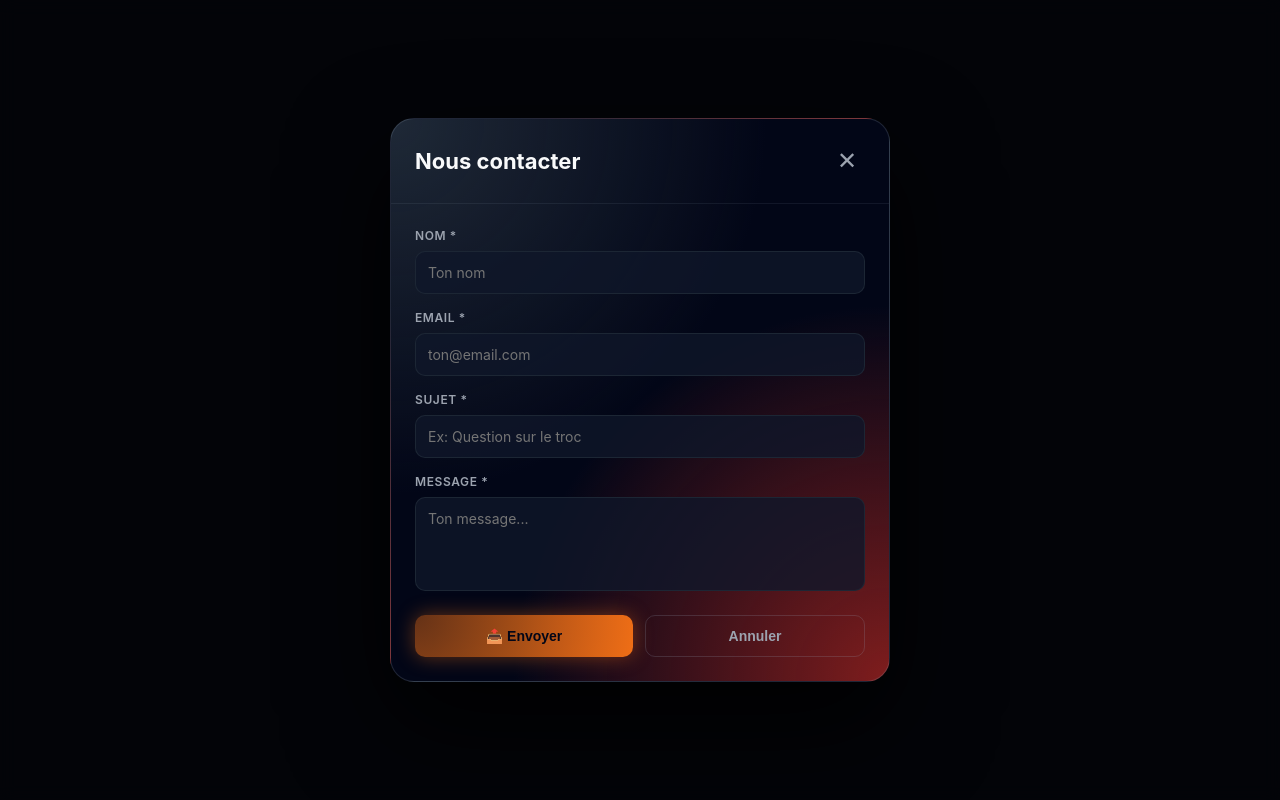
Test: Soumission réussie › affiche le message de succès après soumission
Type "Alice" into the field with placeholder "Ton nom" at point(640, 272), box [415,251,865,294]
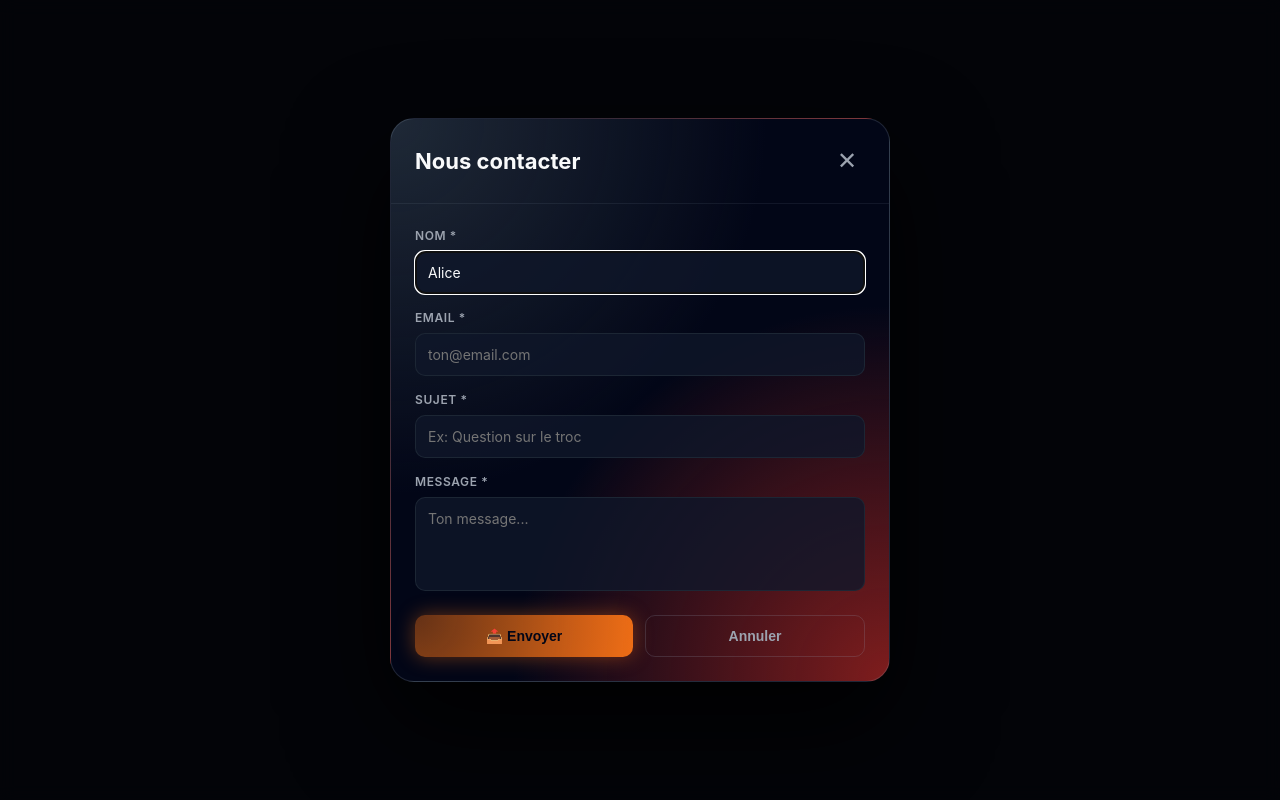
Type "alice@test.com" into the field with placeholder "ton@email.com" at point(640, 354), box [415,333,865,376]
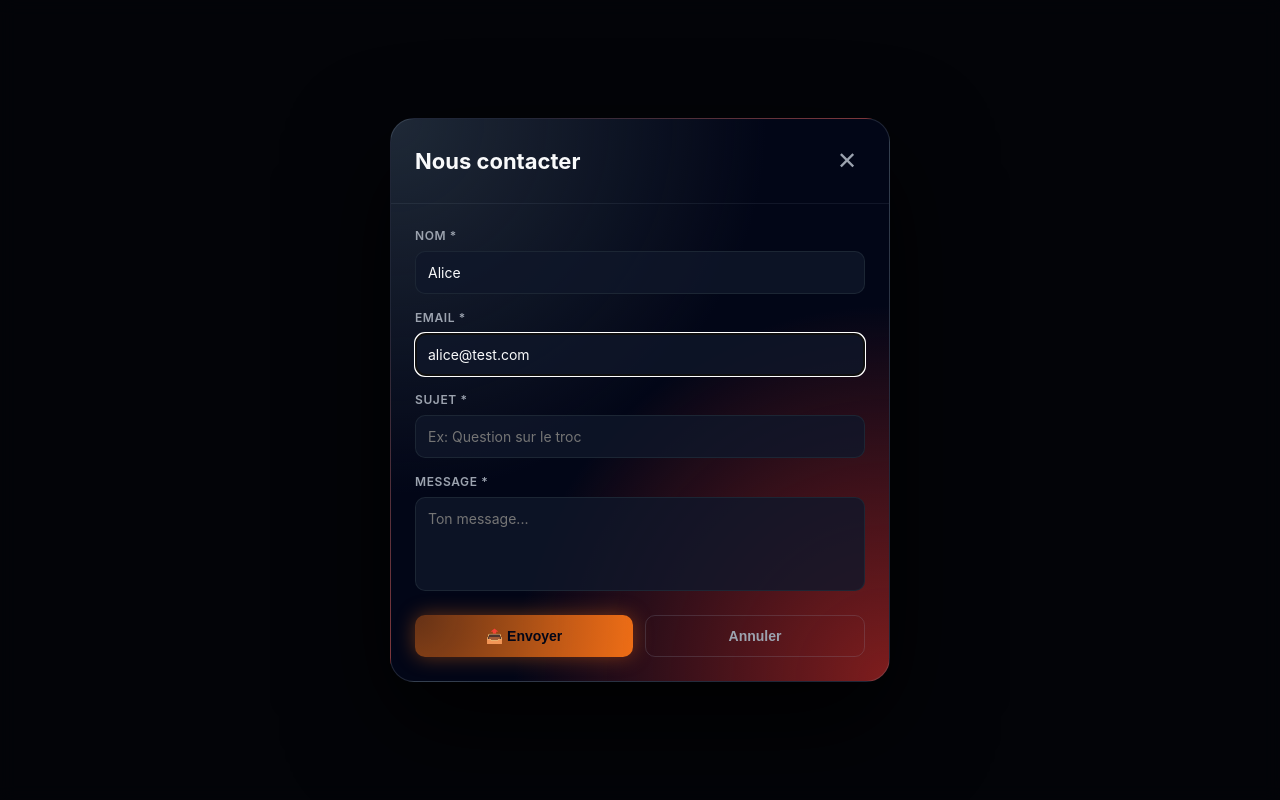
Type "Test" into the field with placeholder "Ex: Question sur le troc" at point(640, 436), box [415,415,865,458]
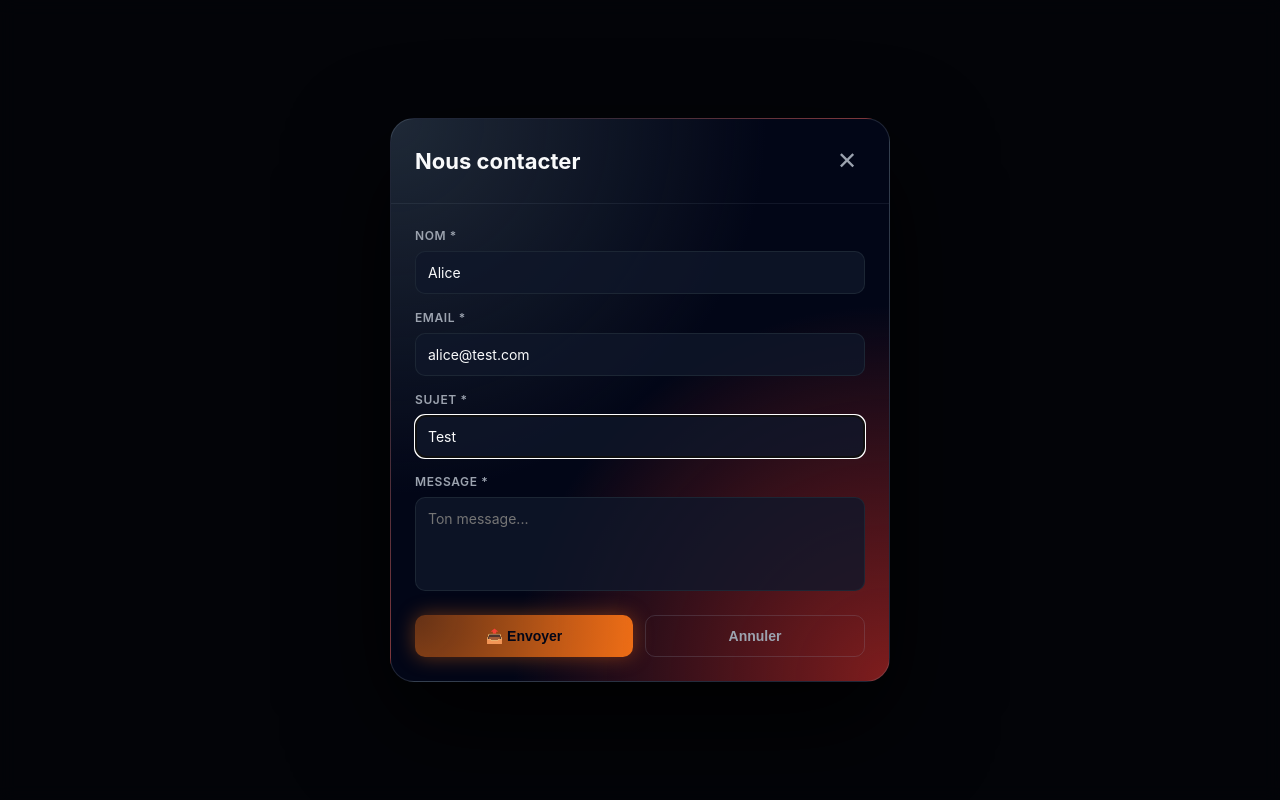
Type "Hello" into the text box with placeholder "Ton message..." at point(640, 544), box [415,497,865,591]
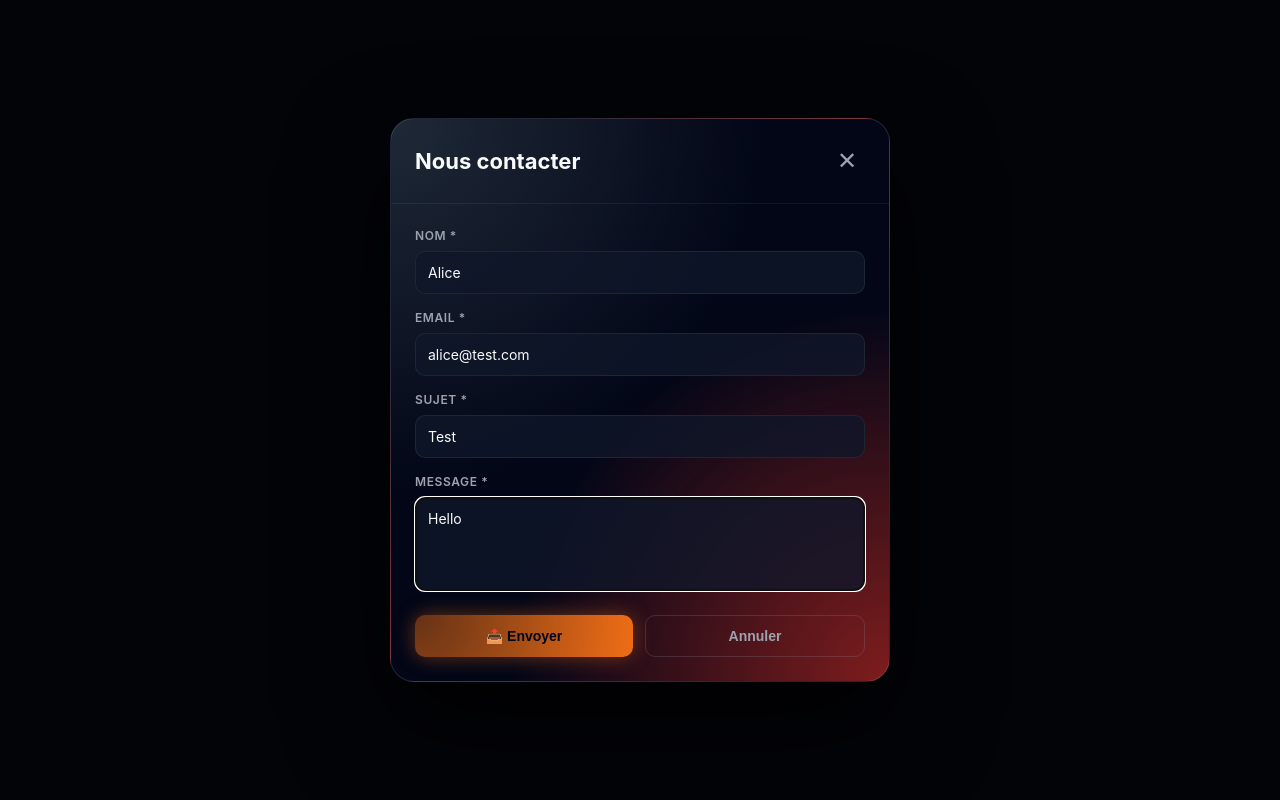
Click the button "📤 Envoyer" at point(524, 636), box [415,615,633,657]
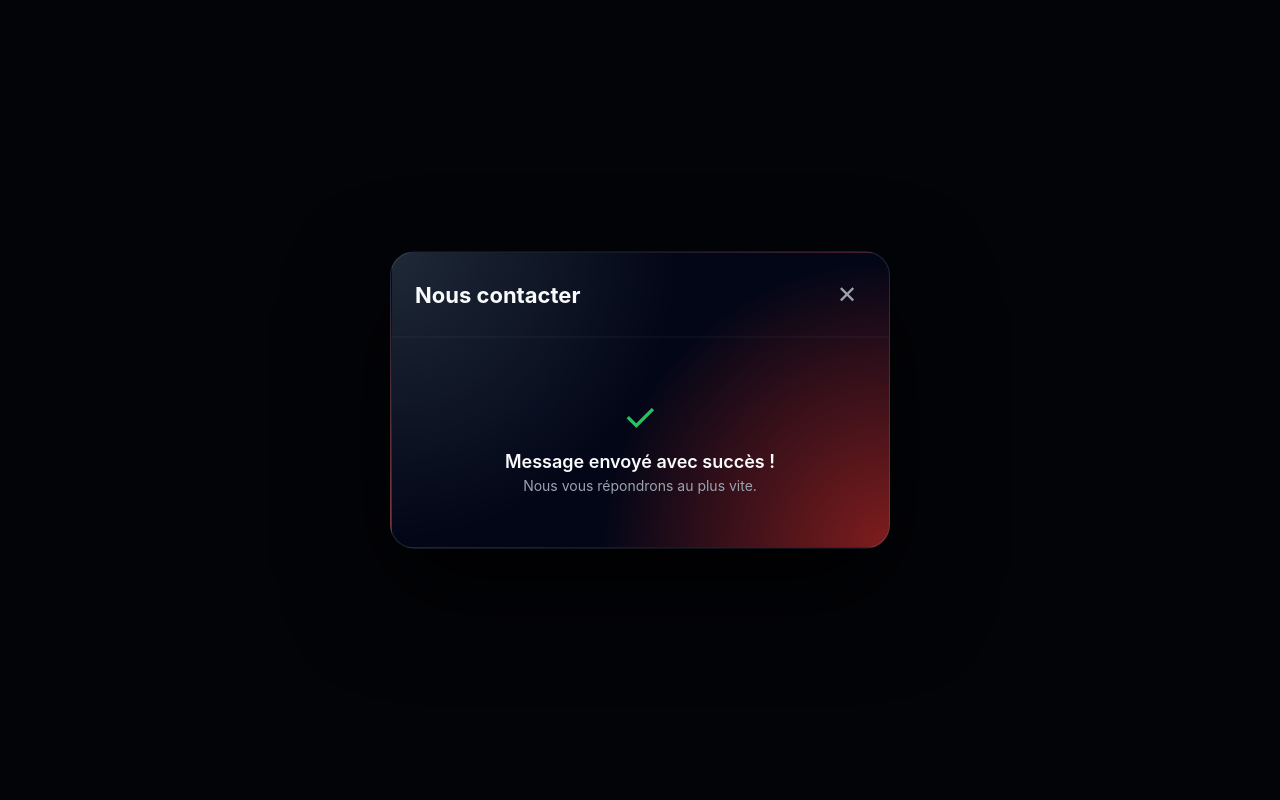
expect the text "Message envoyé avec succès !" is shown: met, box [505,450,775,472]
